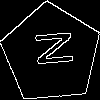N: (26, 28, 73, 69)
